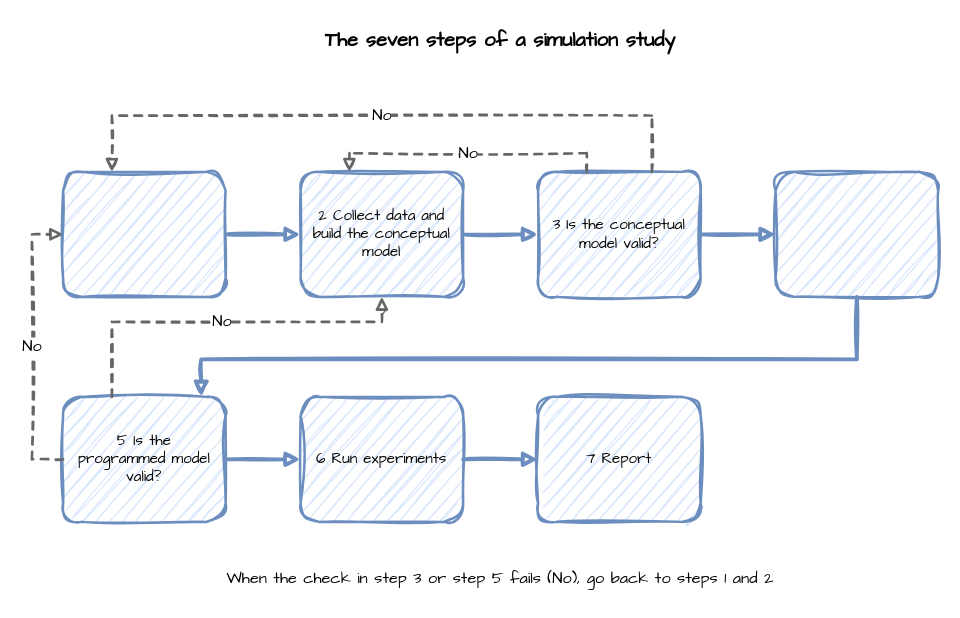
Image size: 960x618. Some labels were removed from this diagram. Here are the shapes that lost their labels. From the top down, the centre of each, then its label:
At [143,234]: "1 Formulate the problem".
At [856,234]: "4 Program the model".
